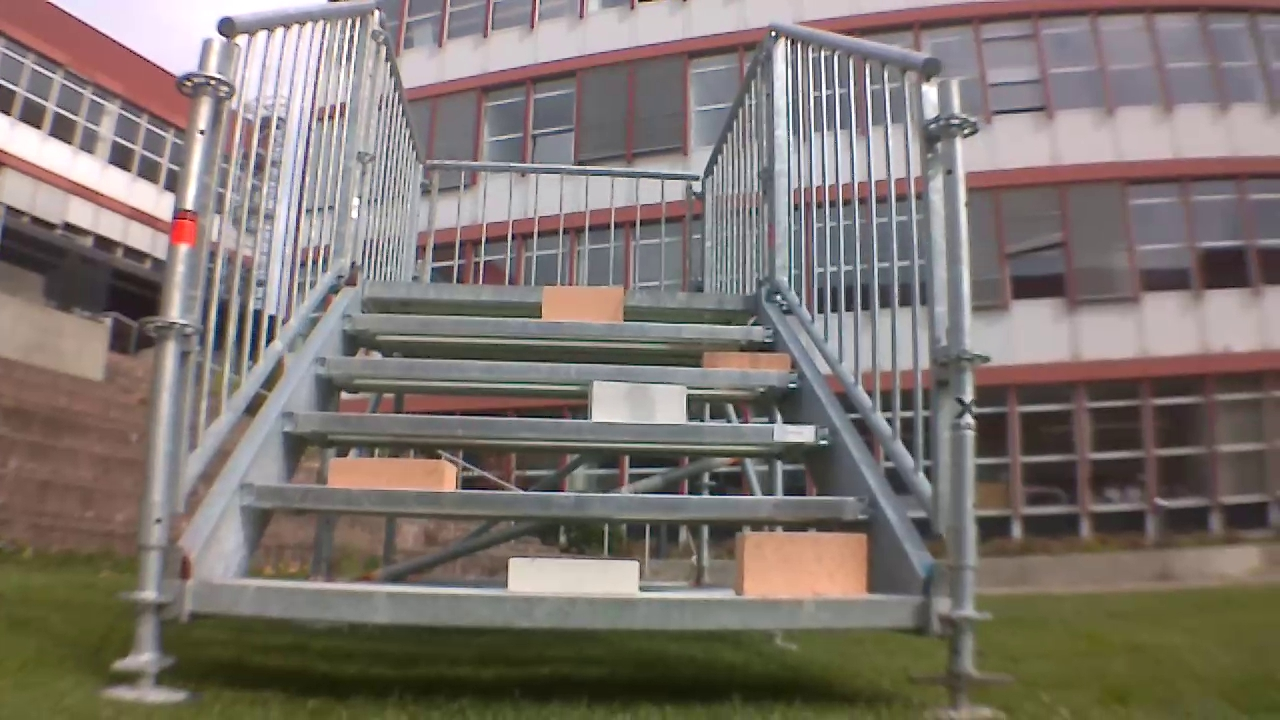brick: (732, 531, 875, 600), (505, 558, 641, 591), (321, 459, 464, 488), (592, 385, 685, 422), (536, 287, 631, 320), (698, 354, 789, 369)
edge: (188, 581, 944, 622), (239, 484, 890, 513), (314, 354, 804, 390), (285, 412, 843, 442), (345, 312, 777, 343), (364, 278, 759, 308)
stairs: (133, 5, 967, 692)
steps: (155, 278, 938, 626)
